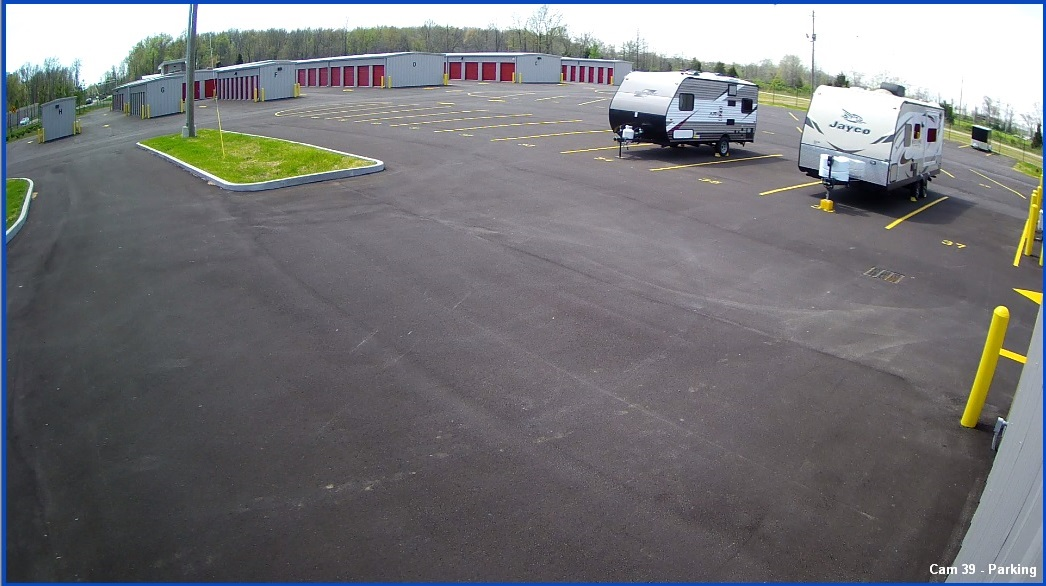empyt_space: (649, 148, 800, 197), (433, 114, 607, 143), (492, 129, 617, 153)
